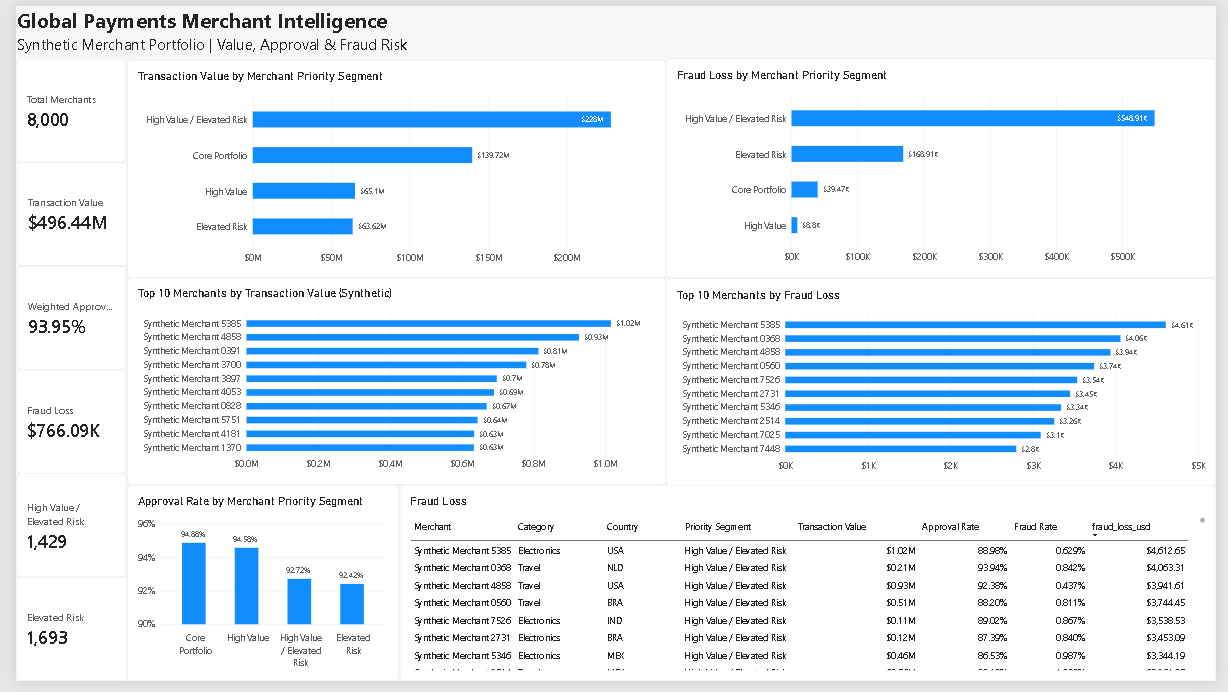

This screenshot's page, from the dashboard's own definition file:
{"tool":"powerbi","page":{"name":"Page 2","canvas":[1920,1080],"ordinal":1},"visuals":[{"type":"cardVisual","fields":{"Data":["KPI_Measures.Total Merchants"]},"box":[0,84,176,166],"z":0},{"type":"cardVisual","fields":{"Data":["KPI_Measures.Merchant Transaction Value"]},"box":[2,250,176,166],"z":1000},{"type":"cardVisual","fields":{"Data":["KPI_Measures.Merchant Weighted Approval Rate"]},"box":[2,416,174,166],"z":2000},{"type":"cardVisual","fields":{"Data":["KPI_Measures.Merchant Fraud Loss"]},"box":[0,582,176,166],"z":3000},{"type":"cardVisual","fields":{"Data":["KPI_Measures.High Value Elevated Risk Merchants"]},"box":[0,748,176,166],"z":4000},{"type":"cardVisual","fields":{"Data":["KPI_Measures.Elevated Risk Merchants"]},"box":[0,914,178,166],"z":5000},{"type":"clusteredBarChart","title":"Transaction Value by Merchant Priority Segment","fields":{"Category":["vw_merchant_intelligence.merchant_priority_segment"],"Y":["KPI_Measures.Merchant Transaction Value"]},"box":[178,86,862,350],"z":6000},{"type":"clusteredBarChart","title":"Fraud Loss by Merchant Priority Segment","fields":{"Category":["vw_merchant_intelligence.merchant_priority_segment"],"Y":["KPI_Measures.Merchant Fraud Loss"]},"box":[1040,84,880,350],"z":7000},{"type":"clusteredColumnChart","title":"Approval Rate by Merchant Priority Segment","fields":{"Category":["vw_merchant_intelligence.merchant_priority_segment"],"Y":["KPI_Measures.Merchant Segment Weighted Approval Rate"]},"box":[178,766,434,314],"z":8000},{"type":"clusteredBarChart","title":"Top 10 Merchants by Transaction Value (Synthetic)","fields":{"Category":["vw_merchant_intelligence.merchant_name"],"Y":["KPI_Measures.Merchant Transaction Value"]},"box":[178,434,862,332],"z":9000},{"type":"clusteredBarChart","title":"Top 10 Merchants by Fraud Loss","fields":{"Category":["vw_merchant_intelligence.merchant_name"],"Y":["KPI_Measures.Merchant Fraud Loss"]},"box":[1040,436,880,332],"z":10000},{"type":"tableEx","title":"Fraud Loss","fields":{"Values":["vw_merchant_intelligence.merchant_name","vw_merchant_intelligence.merchant_category","vw_merchant_intelligence.merchant_country","vw_merchant_intelligence.merchant_priority_segment","vw_merchant_intelligence.transaction_value_usd","vw_merchant_intelligence.approval_rate","vw_merchant_intelligence.fraud_rate","vw_merchant_intelligence.fraud_loss_usd"]},"box":[614,766,1306,314],"z":11000},{"type":"textbox","box":[1.8,0,1073,86.5],"z":12000}]}

Visuals, with their boxes in screenshot pixels (x1, y1, x2, y2), scaled from the page's 1920x1080 canvas onto the 1228x692 screenshot:
cardVisual - KPI_Measures.Total Merchants: BBox(0, 54, 113, 160)
cardVisual - KPI_Measures.Merchant Transaction Value: BBox(1, 160, 114, 267)
cardVisual - KPI_Measures.Merchant Weighted Approval Rate: BBox(1, 267, 113, 373)
cardVisual - KPI_Measures.Merchant Fraud Loss: BBox(0, 373, 113, 479)
cardVisual - KPI_Measures.High Value Elevated Risk Merchants: BBox(0, 479, 113, 586)
cardVisual - KPI_Measures.Elevated Risk Merchants: BBox(0, 586, 114, 691)
"Transaction Value by Merchant Priority Segment" clusteredBarChart: BBox(114, 55, 665, 279)
"Fraud Loss by Merchant Priority Segment" clusteredBarChart: BBox(665, 54, 1227, 278)
"Approval Rate by Merchant Priority Segment" clusteredColumnChart: BBox(114, 491, 391, 691)
"Top 10 Merchants by Transaction Value (Synthetic)" clusteredBarChart: BBox(114, 278, 665, 491)
"Top 10 Merchants by Fraud Loss" clusteredBarChart: BBox(665, 279, 1227, 492)
"Fraud Loss" tableEx: BBox(393, 491, 1227, 691)
textbox: BBox(1, 0, 687, 55)
